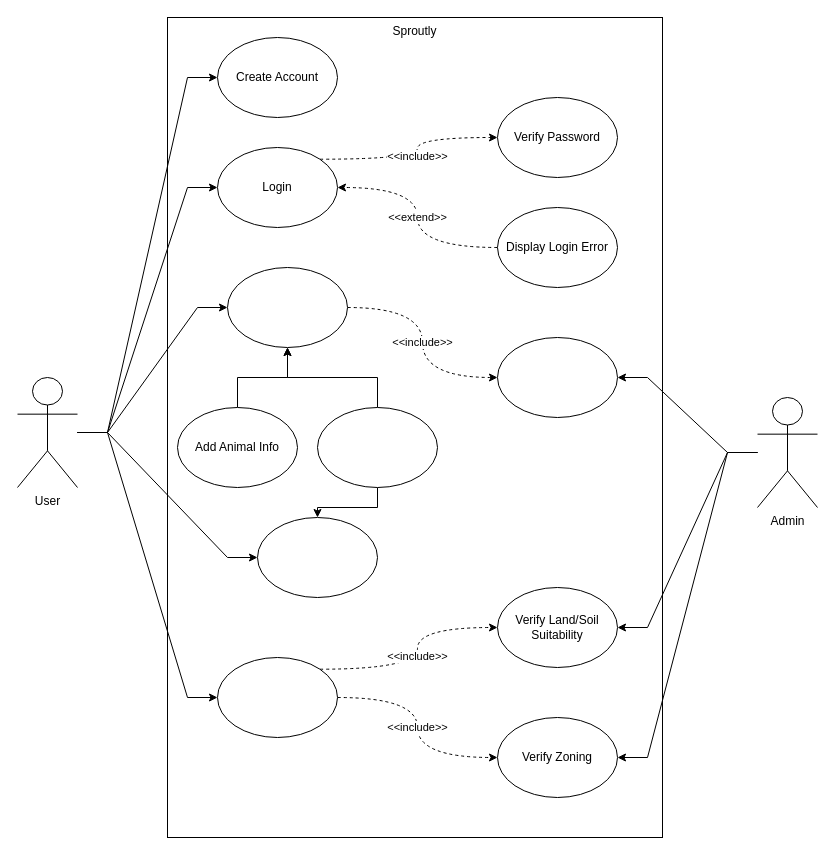
Some shapes in this 835 by 855 pixel diagram are drawn without their labels. The shapes that lost their labels are listed below. From the top down, each one's centre as x and y in pixels, then its label:
At pixel 287 307: "View Homestead Calendar".
At pixel 557 377: "Verify weather for watering schedule".
At pixel 377 447: "Add Plant Info".
At pixel 317 557: "Track Garden".
At pixel 277 697: "Find Land".
